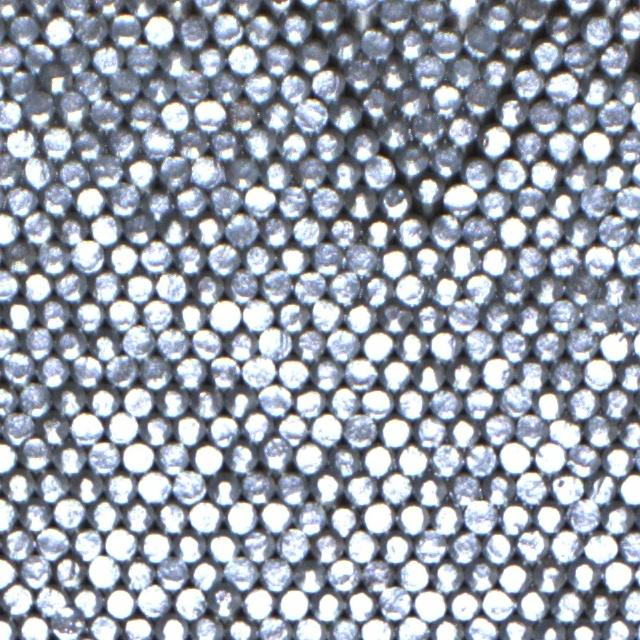tool: (241, 469, 275, 504), (514, 469, 548, 504), (462, 499, 497, 533), (410, 111, 444, 146), (104, 409, 138, 443), (343, 413, 377, 447), (495, 213, 529, 247), (54, 268, 88, 302), (142, 12, 176, 46), (172, 469, 206, 503), (498, 439, 532, 473), (344, 55, 378, 89), (156, 440, 190, 474), (243, 13, 277, 47), (138, 354, 172, 388), (532, 559, 566, 593), (596, 213, 630, 247), (294, 499, 328, 533), (2, 468, 36, 502), (546, 70, 580, 104), (71, 238, 105, 272), (344, 242, 378, 276), (396, 144, 430, 178), (190, 270, 224, 304), (137, 469, 171, 503), (344, 528, 378, 562), (566, 498, 600, 532), (89, 96, 123, 130), (329, 97, 363, 131), (431, 142, 464, 177), (394, 215, 428, 248), (380, 469, 413, 503), (90, 154, 124, 187), (207, 240, 240, 274), (103, 584, 136, 618), (242, 183, 276, 216), (259, 498, 292, 532), (328, 384, 361, 418), (344, 587, 378, 620), (546, 11, 580, 44), (2, 410, 35, 444), (294, 154, 327, 188), (428, 214, 462, 247), (343, 356, 377, 389), (277, 470, 310, 504), (395, 443, 429, 476), (155, 556, 189, 589), (207, 584, 241, 617), (327, 556, 360, 590), (481, 354, 514, 388), (379, 56, 412, 90), (498, 382, 532, 415), (257, 382, 291, 415), (379, 585, 412, 619), (225, 212, 258, 246), (19, 438, 52, 472), (105, 296, 138, 330), (379, 184, 412, 218), (227, 155, 260, 189), (173, 412, 206, 446), (291, 213, 325, 246), (1, 581, 34, 615), (584, 590, 618, 623), (583, 298, 616, 332), (54, 213, 88, 246), (188, 498, 221, 532), (258, 557, 292, 590), (293, 269, 327, 302), (546, 298, 580, 331), (463, 441, 496, 475), (361, 154, 394, 188), (106, 240, 139, 274), (496, 269, 530, 302), (498, 501, 532, 534), (39, 125, 73, 158), (74, 11, 108, 44), (294, 97, 327, 131), (156, 326, 190, 359), (4, 125, 38, 158), (122, 324, 155, 358), (327, 444, 360, 478), (448, 473, 482, 506), (562, 100, 596, 133), (261, 41, 294, 75), (566, 442, 599, 476), (462, 80, 495, 114), (207, 528, 240, 562), (361, 84, 394, 118), (311, 240, 344, 274), (360, 26, 394, 59), (18, 553, 52, 586), (462, 327, 496, 360), (362, 558, 395, 592), (362, 442, 394, 477), (430, 442, 463, 475), (531, 214, 564, 247), (227, 41, 260, 74), (126, 40, 159, 73), (379, 414, 412, 447), (4, 182, 37, 215), (551, 589, 584, 622), (478, 186, 511, 219), (447, 54, 480, 87), (494, 156, 527, 189), (276, 411, 309, 444), (41, 13, 74, 46), (429, 386, 462, 419), (177, 15, 210, 48), (379, 356, 412, 389), (328, 215, 361, 248), (20, 269, 53, 302), (329, 269, 362, 302), (582, 356, 615, 389), (345, 187, 378, 220), (429, 82, 462, 115), (225, 500, 258, 533), (104, 526, 137, 559), (551, 471, 584, 504), (293, 560, 326, 593), (601, 558, 634, 591), (279, 11, 312, 44), (104, 470, 137, 503), (394, 272, 427, 305), (53, 383, 86, 416), (530, 38, 563, 71), (21, 210, 54, 243), (548, 415, 581, 448), (240, 408, 273, 441), (107, 181, 140, 214), (23, 92, 56, 125), (580, 128, 613, 161), (311, 66, 344, 99), (243, 126, 276, 159), (19, 382, 52, 415), (56, 156, 89, 189), (396, 501, 429, 534), (191, 213, 224, 246), (481, 299, 514, 332), (379, 529, 412, 562), (310, 185, 343, 218), (461, 214, 494, 247), (207, 355, 240, 388), (157, 154, 190, 187), (396, 85, 429, 118), (567, 558, 600, 591), (193, 98, 226, 131), (482, 471, 515, 504), (277, 528, 310, 561), (512, 128, 545, 161), (176, 127, 209, 160), (36, 354, 69, 387), (137, 583, 170, 616), (86, 440, 119, 473), (21, 325, 54, 358), (259, 437, 292, 470), (35, 526, 68, 559), (563, 39, 596, 72), (413, 359, 446, 392), (36, 241, 69, 274), (414, 473, 447, 506), (161, 45, 194, 78), (88, 329, 121, 362), (480, 242, 512, 276), (482, 586, 514, 620), (446, 242, 478, 276), (278, 586, 310, 620), (292, 386, 326, 418), (600, 386, 634, 418), (276, 243, 310, 275), (227, 268, 259, 302), (2, 527, 36, 559), (57, 90, 89, 124), (534, 440, 566, 474), (584, 472, 618, 504), (294, 40, 328, 72), (446, 298, 480, 330), (104, 354, 138, 386), (174, 354, 206, 388), (140, 296, 172, 330), (106, 127, 140, 159), (38, 296, 70, 330), (8, 12, 40, 46), (208, 183, 242, 215), (380, 116, 412, 150), (54, 554, 86, 588), (126, 96, 158, 130), (240, 353, 274, 385), (36, 585, 70, 617), (211, 12, 243, 46), (87, 382, 119, 416), (412, 177, 444, 211), (53, 495, 85, 528), (40, 180, 72, 213), (242, 586, 275, 618), (529, 157, 561, 190), (293, 441, 325, 474), (395, 386, 428, 418), (582, 242, 614, 275), (533, 386, 565, 419), (598, 42, 630, 75), (546, 128, 578, 161), (175, 184, 207, 217), (345, 472, 378, 504), (155, 269, 188, 301), (71, 411, 103, 444), (310, 297, 342, 330), (431, 559, 463, 592), (156, 385, 189, 417), (122, 440, 154, 473), (482, 411, 514, 444), (397, 558, 430, 590), (277, 184, 309, 217), (176, 69, 208, 102), (533, 500, 565, 533), (174, 585, 206, 618), (191, 154, 224, 186), (449, 587, 481, 620), (498, 559, 530, 592), (329, 157, 361, 190), (277, 299, 310, 331), (207, 299, 240, 331), (548, 242, 580, 275), (310, 412, 342, 445), (548, 358, 581, 390), (278, 70, 310, 103), (37, 413, 70, 445), (91, 42, 124, 74), (447, 416, 480, 448), (89, 269, 121, 302), (19, 499, 52, 531), (580, 183, 612, 216), (244, 69, 276, 102), (71, 584, 103, 617), (601, 443, 633, 476), (54, 442, 86, 475), (242, 297, 274, 330), (446, 113, 478, 146), (480, 55, 512, 88), (428, 274, 461, 306), (428, 26, 461, 58), (22, 154, 54, 187), (277, 128, 310, 160), (258, 325, 291, 357), (362, 500, 394, 533), (74, 183, 106, 216), (122, 500, 155, 532), (108, 68, 141, 100), (277, 355, 310, 387), (260, 268, 292, 301), (294, 328, 326, 361), (242, 242, 274, 275), (602, 502, 635, 534), (344, 300, 377, 332), (72, 299, 105, 331), (1, 352, 34, 384), (516, 588, 549, 620), (446, 359, 479, 391), (463, 385, 495, 418), (242, 530, 275, 562), (566, 386, 599, 418), (71, 353, 103, 386), (141, 126, 174, 158), (328, 29, 360, 62), (531, 274, 564, 306), (123, 213, 156, 245), (142, 72, 175, 104), (482, 529, 514, 562), (599, 273, 632, 305), (448, 530, 480, 563), (224, 555, 256, 588), (563, 159, 596, 191), (226, 98, 259, 130), (463, 270, 495, 303), (347, 128, 380, 160), (599, 328, 632, 360), (361, 328, 394, 360), (515, 528, 548, 560), (209, 472, 241, 505), (311, 356, 343, 389), (311, 530, 343, 563), (528, 100, 561, 132), (109, 13, 141, 46), (87, 554, 119, 587), (174, 530, 206, 563), (74, 128, 106, 161), (4, 69, 37, 101), (327, 327, 359, 360), (550, 528, 582, 561), (413, 530, 446, 562), (514, 243, 546, 276), (479, 124, 512, 156), (513, 184, 545, 217), (564, 215, 596, 248), (565, 328, 598, 360), (414, 415, 446, 448), (54, 328, 87, 360), (362, 215, 394, 248), (37, 469, 69, 502), (566, 272, 598, 305), (40, 61, 73, 93), (581, 75, 614, 107), (515, 358, 548, 390), (412, 0, 446, 31), (191, 442, 223, 474), (140, 240, 172, 272), (444, 182, 476, 214), (207, 414, 239, 446), (379, 245, 411, 277), (190, 386, 222, 418), (584, 414, 616, 446), (156, 500, 188, 532), (396, 330, 428, 362), (581, 14, 613, 46), (225, 442, 257, 474), (123, 270, 155, 302), (89, 212, 121, 244), (430, 503, 462, 535), (140, 413, 172, 445), (76, 68, 108, 100), (361, 386, 393, 418), (122, 384, 154, 416), (5, 298, 37, 330), (547, 188, 579, 220), (194, 43, 226, 75), (584, 530, 616, 562), (210, 71, 242, 103), (396, 27, 428, 59), (122, 556, 154, 588), (71, 527, 103, 559), (224, 386, 256, 418), (328, 503, 360, 535), (4, 241, 36, 273), (380, 301, 412, 333), (88, 498, 120, 530), (189, 557, 221, 589), (260, 158, 292, 190), (532, 328, 564, 360), (72, 470, 104, 502), (412, 244, 444, 276), (512, 66, 544, 98), (175, 300, 207, 332), (598, 100, 630, 132), (140, 529, 172, 561), (190, 328, 222, 360), (312, 590, 344, 622), (160, 98, 192, 130), (598, 159, 630, 191), (362, 274, 394, 306), (496, 95, 528, 127), (311, 470, 343, 502), (413, 54, 445, 86), (462, 156, 494, 188), (414, 588, 446, 620), (160, 215, 192, 247), (498, 27, 530, 59), (210, 128, 242, 160), (312, 128, 344, 160), (429, 328, 461, 360), (463, 25, 495, 57), (515, 412, 547, 444), (224, 328, 256, 360), (310, 0, 342, 32), (261, 100, 293, 132), (465, 559, 497, 591), (515, 302, 547, 334), (51, 609, 84, 640), (141, 188, 174, 219), (260, 214, 291, 247), (175, 242, 206, 274), (125, 155, 156, 187), (498, 329, 530, 360), (481, 1, 513, 32), (24, 39, 56, 70), (58, 40, 90, 71), (346, 1, 378, 32), (378, 0, 412, 29), (414, 302, 444, 334), (513, 0, 545, 29), (87, 612, 119, 640), (395, 614, 429, 640), (614, 128, 640, 162), (18, 613, 50, 640), (121, 614, 154, 640), (614, 185, 640, 218), (615, 240, 640, 274), (360, 615, 393, 640), (259, 615, 292, 640), (465, 615, 498, 640), (156, 615, 188, 640), (190, 615, 222, 640), (225, 615, 257, 640), (615, 8, 640, 40), (615, 74, 640, 106), (431, 616, 464, 640), (293, 616, 326, 640), (616, 298, 640, 330), (328, 617, 360, 640), (500, 617, 532, 640), (618, 471, 640, 504), (0, 96, 22, 129), (618, 529, 640, 562), (0, 41, 23, 72), (602, 618, 634, 640), (618, 358, 640, 390), (618, 418, 640, 450), (619, 587, 640, 620), (0, 152, 20, 185), (536, 620, 568, 640), (568, 620, 600, 640), (126, 0, 158, 20), (0, 210, 19, 243), (0, 325, 18, 358), (0, 496, 17, 530), (0, 268, 18, 300), (228, 0, 260, 18), (58, 0, 90, 18), (0, 383, 18, 415), (448, 0, 478, 19), (0, 555, 17, 588), (0, 439, 17, 472), (159, 0, 193, 15), (91, 0, 124, 15), (24, 0, 56, 15), (192, 0, 226, 14), (0, 0, 23, 19)
